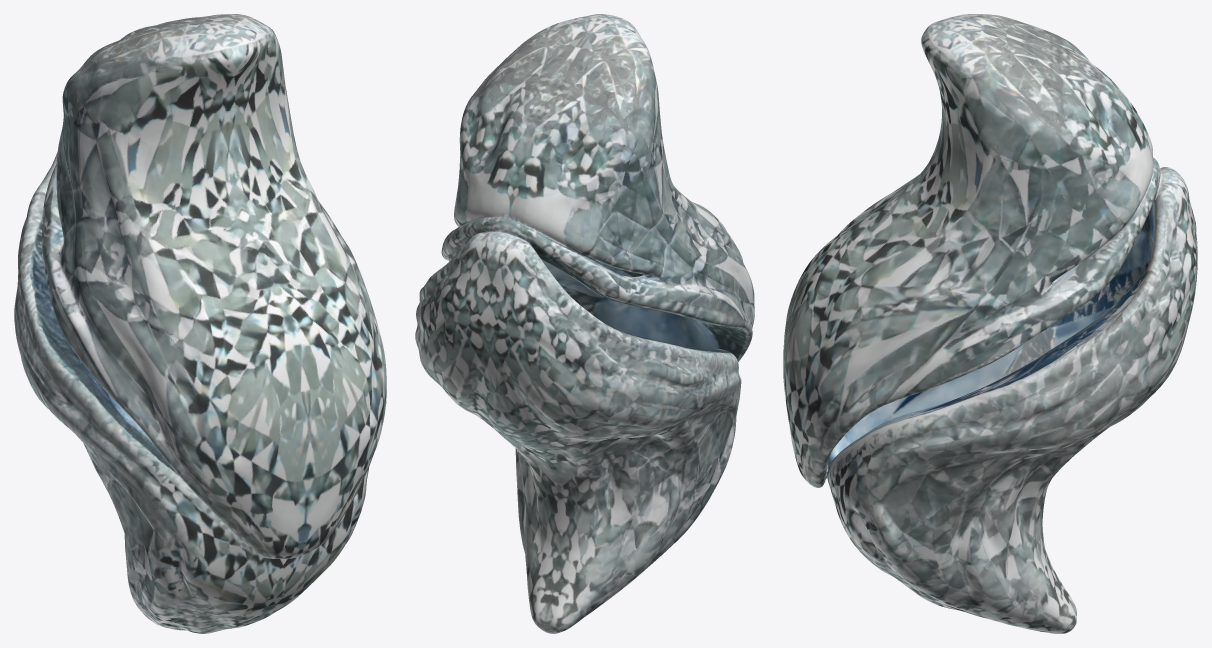
Rendered from opt_Crystal_Spiral_0506235732.glb.
The picture shows the model from 3 angles, left to right: view 1: azimuth 30°, elevation 25°; view 2: azimuth 150°, elevation 25°; view 3: azimuth 270°, elevation 25°; orthographic projection. The views are drawn at different scales.
Size of the model in its own units: 0.9276 by 1.9 by 1.17.
1 material, 1 textured.
